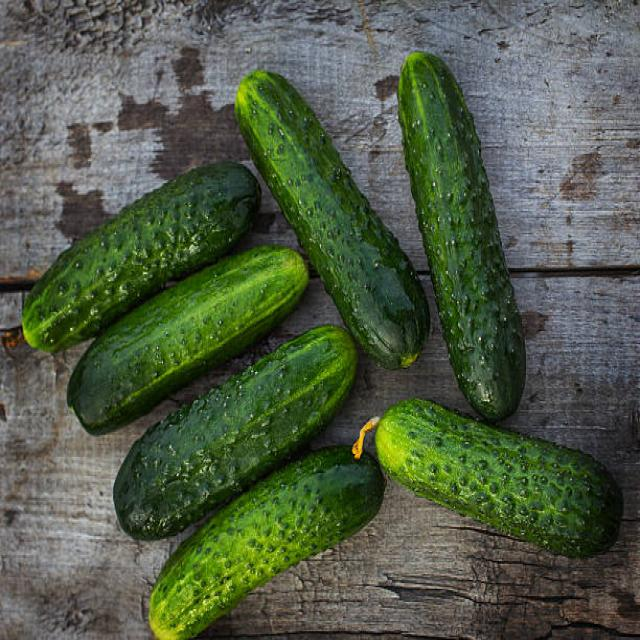cucumber: (232, 65, 430, 371), (111, 325, 355, 541), (66, 238, 310, 437), (398, 48, 526, 419), (20, 162, 263, 350), (149, 446, 384, 640), (375, 400, 623, 557)
